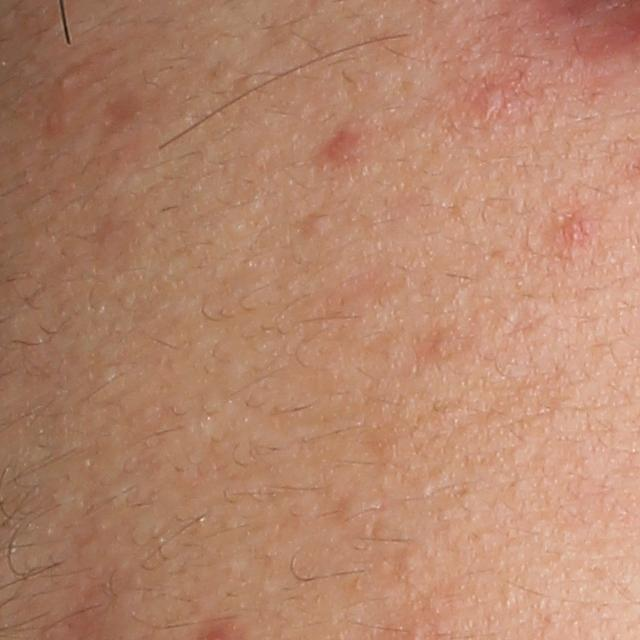comedo: (303, 212, 333, 238), (55, 69, 76, 90), (402, 550, 423, 570)
papule: (475, 68, 527, 118), (321, 124, 364, 168)
